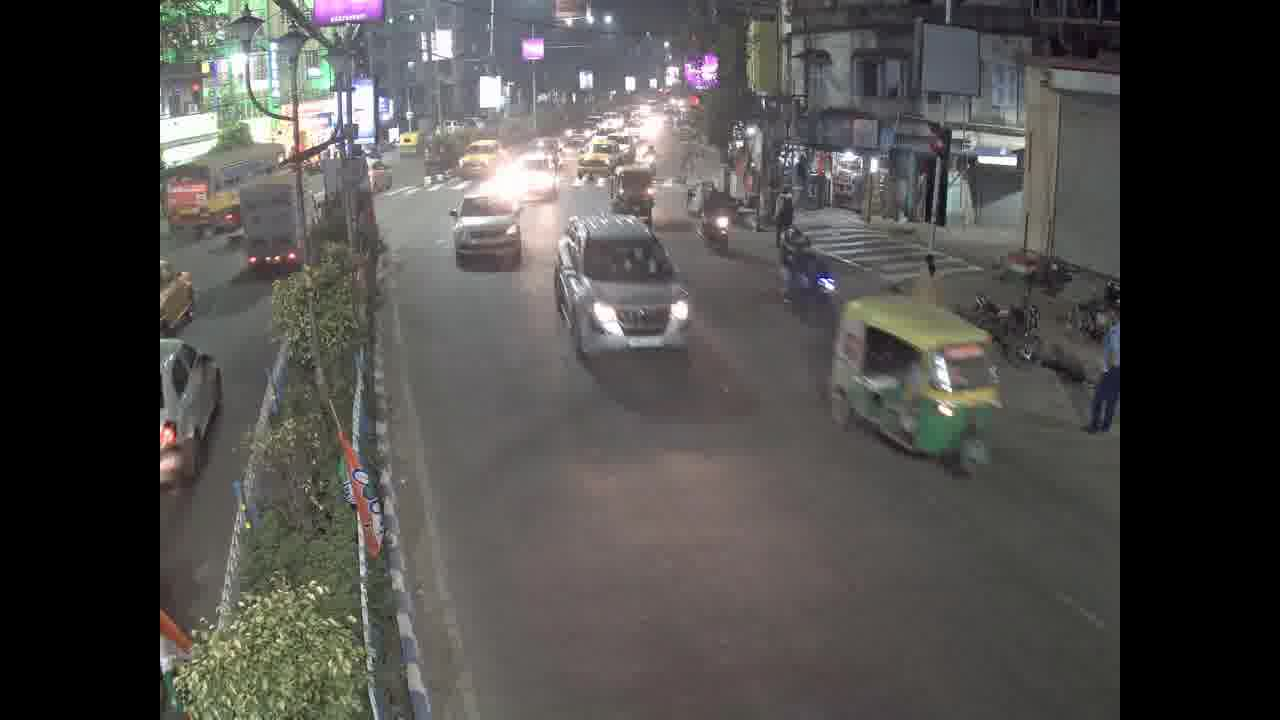auto-rickshaw: (839, 295, 1000, 485), (609, 170, 658, 225)
bike: (957, 292, 1045, 379), (772, 258, 836, 329), (692, 210, 735, 257)
car: (554, 221, 676, 351), (454, 192, 515, 262)
